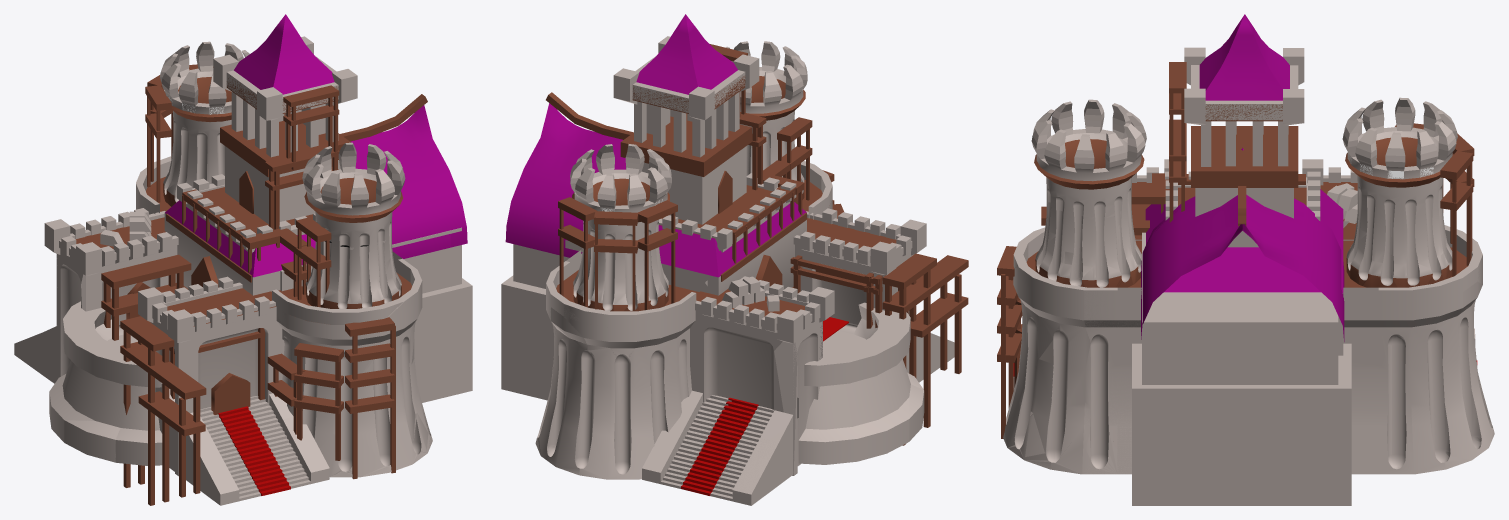
The model's file is ElfHallTier2.fbx.
3 views of the same model, side by side, from view 1: azimuth 30°, elevation 25°; view 2: azimuth 150°, elevation 25°; view 3: azimuth 270°, elevation 25° (orthographic). The views are drawn at different scales.
Visible parts, largest first — view 1: ElfHallTier2.001, ElfHallTier2Build.001; view 2: ElfHallTier2.001, ElfHallTier2Build.001; view 3: ElfHallTier2.001, ElfHallTier2Build.001.
Boxes of the visible parts, bbox=[...] form: ElfHallTier2.001: bbox=[14, 14, 472, 505]; ElfHallTier2Build.001: bbox=[59, 57, 467, 505]; ElfHallTier2.001: bbox=[501, 14, 954, 505]; ElfHallTier2Build.001: bbox=[513, 44, 968, 505]; ElfHallTier2.001: bbox=[1006, 14, 1494, 505]; ElfHallTier2Build.001: bbox=[997, 62, 1490, 474].
Bounding box in the file's own units: 5768 × 6143 × 6179.
